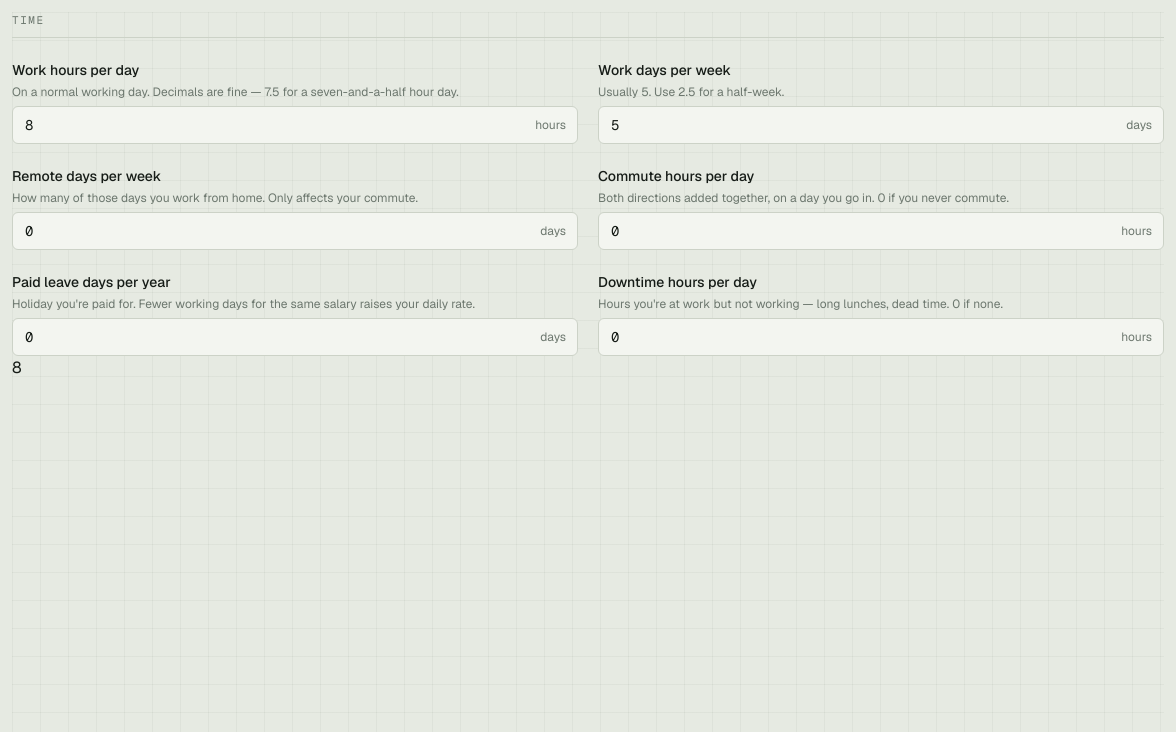
it: NumberField under a real controlled parent › treats a cleared field as zero
The image size is (1176, 732).
Clear the field labelled "Work hours per day": (295, 124) x1=12 y1=106 x2=578 y2=144
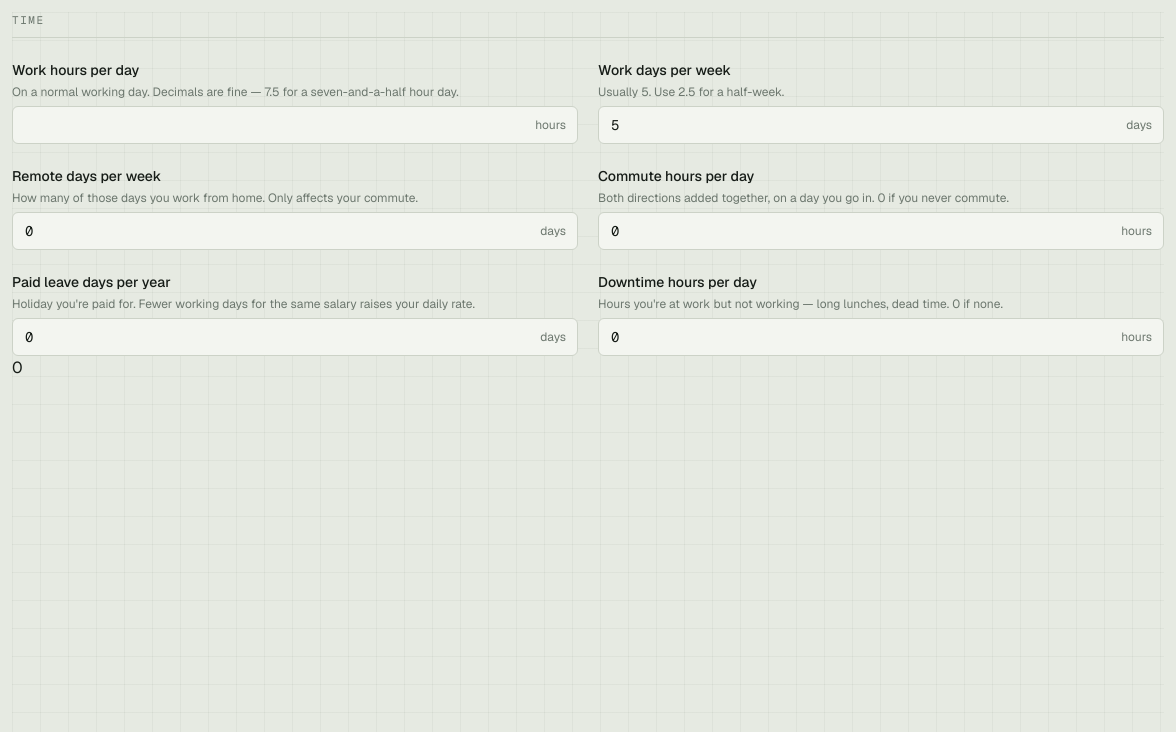
Check: the text with test id "hours" reads "0", box x1=12 y1=356 x2=23 y2=378
